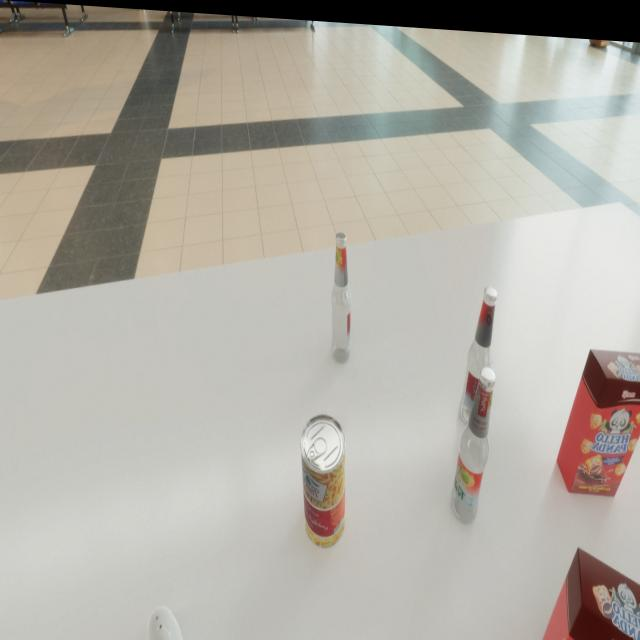Bottle: (451, 358, 496, 519), (459, 278, 497, 422), (331, 227, 352, 359)
HelloPanda: (557, 338, 640, 489), (534, 536, 640, 640)
Potato_sticks: (300, 408, 346, 545)
Salt: (147, 603, 185, 640)
